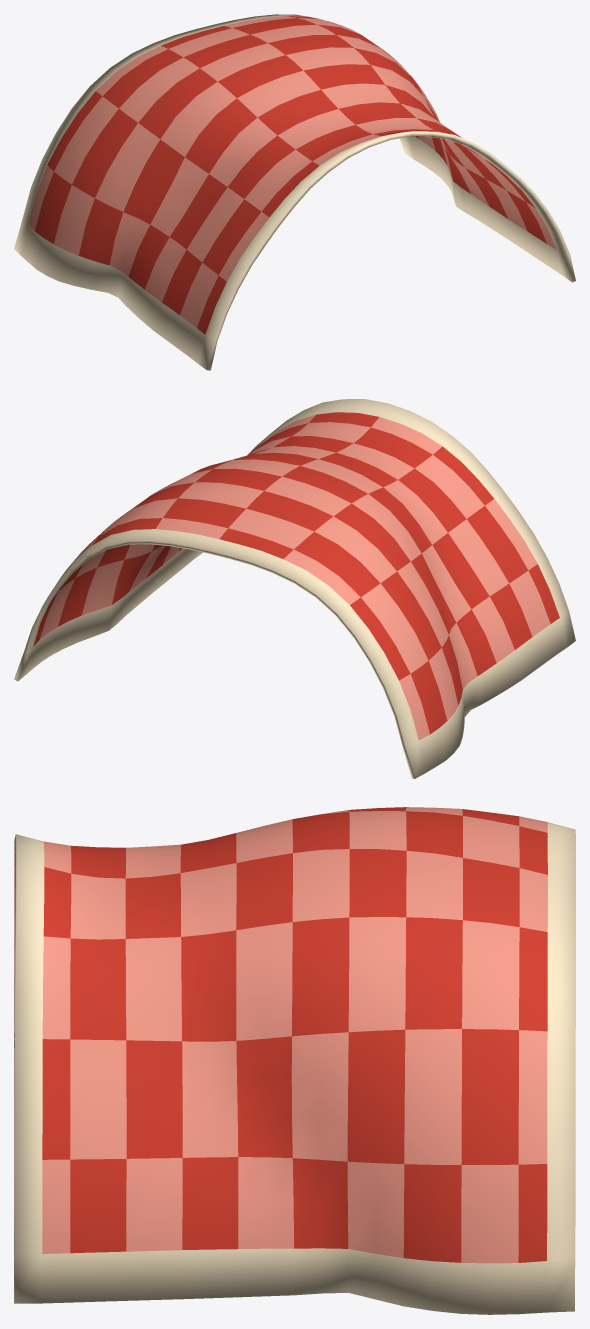
The picture shows the model from 3 angles, top to bottom: view 1: azimuth 30°, elevation 25°; view 2: azimuth 150°, elevation 25°; view 3: azimuth 270°, elevation 25°; orthographic projection. The views are drawn at different scales.
Parts seen in each view (by area): view 1: horse-blanket; view 2: horse-blanket; view 3: horse-blanket.
Part boxes in pixels (left/top/right/bottom): horse-blanket: left=14, top=14, right=575, bottom=370; horse-blanket: left=14, top=399, right=575, bottom=778; horse-blanket: left=14, top=807, right=575, bottom=1314.
Size of the model in its own units: 0.3104 by 0.1465 by 0.2359.
